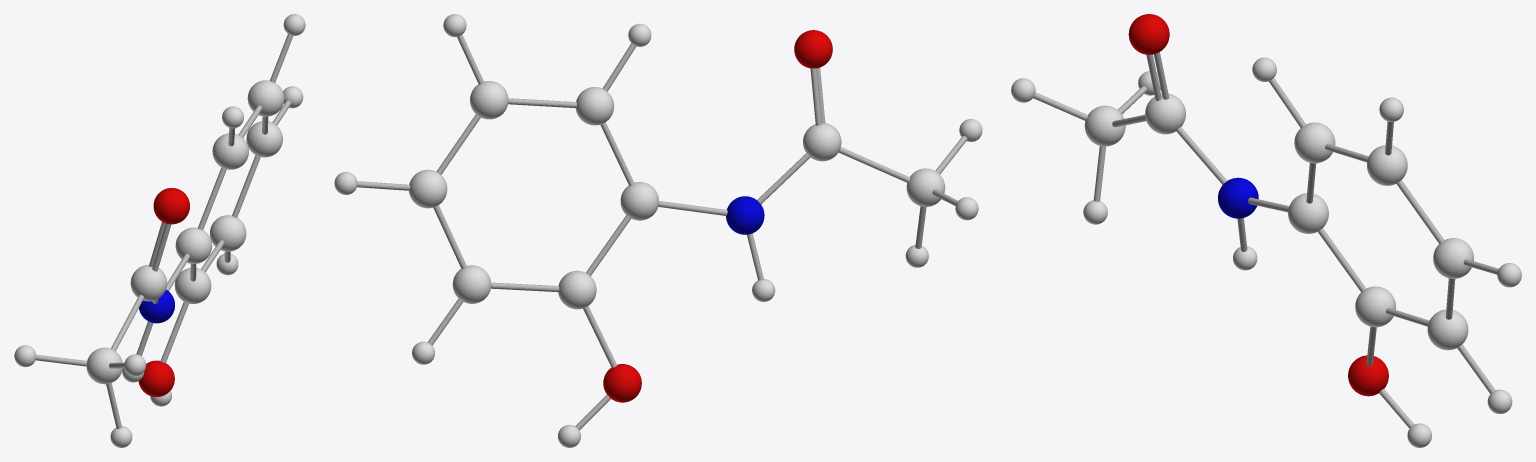
3 renders of one model, left to right at view 1: azimuth 30°, elevation 25°; view 2: azimuth 150°, elevation 25°; view 3: azimuth 270°, elevation 25°, orthographic. The views are drawn at different scales.
Parts seen in each view (by area): view 1: world; view 2: world; view 3: world.
Part boxes in pixels (x1,y1,x2,y2): world: [14, 14, 305, 447]; world: [334, 14, 982, 447]; world: [1011, 14, 1521, 447].
Bounding box in the file's own units: 7.04 × 5.58 × 6.24.
